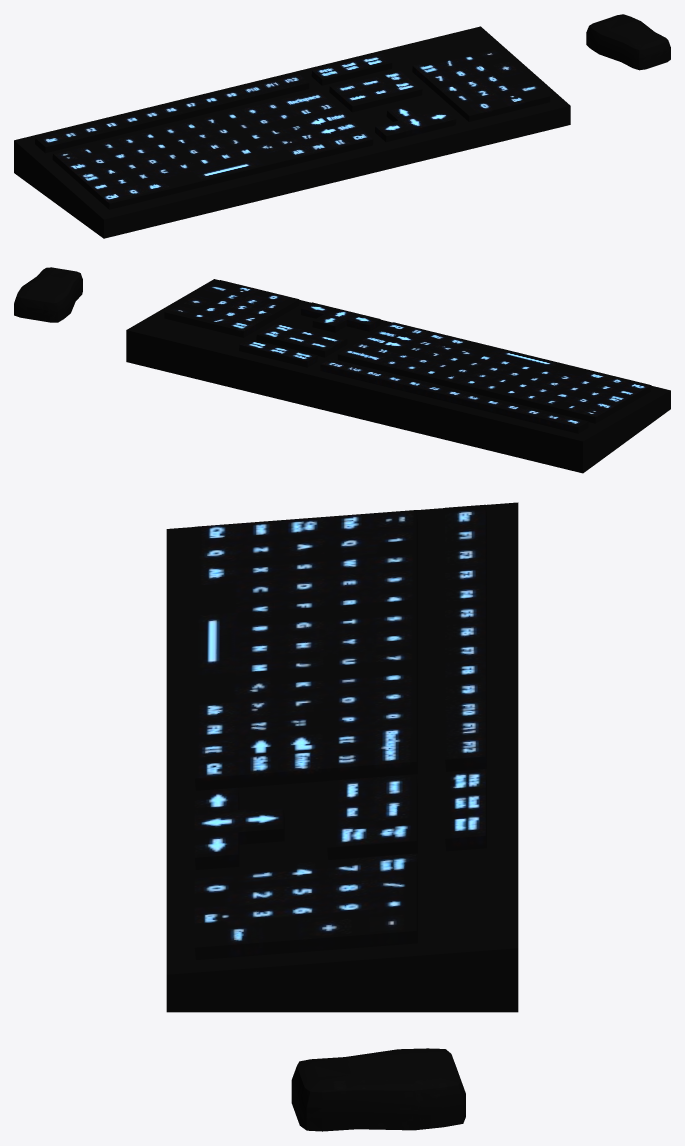
File: teclado.gltf
3 renders of one model, top to bottom at view 1: azimuth 30°, elevation 25°; view 2: azimuth 150°, elevation 25°; view 3: azimuth 270°, elevation 25°, orthographic. The views are drawn at different scales.
Parts seen in each view (by area): view 1: Key_Board_Low, Mouse_Low; view 2: Key_Board_Low, Mouse_Low; view 3: Key_Board_Low, Mouse_Low.
Part boxes in pixels (x1,y1,x2,y2): Key_Board_Low: (14,26,570,238); Mouse_Low: (586,14,670,70); Key_Board_Low: (126,279,670,473); Mouse_Low: (14,267,82,322); Key_Board_Low: (166,502,518,1012); Mouse_Low: (291,1048,465,1131).
Size of the model in its own units: 1.57 by 0.094 by 0.4041.
Materials: 1 (1 with a texture image).
